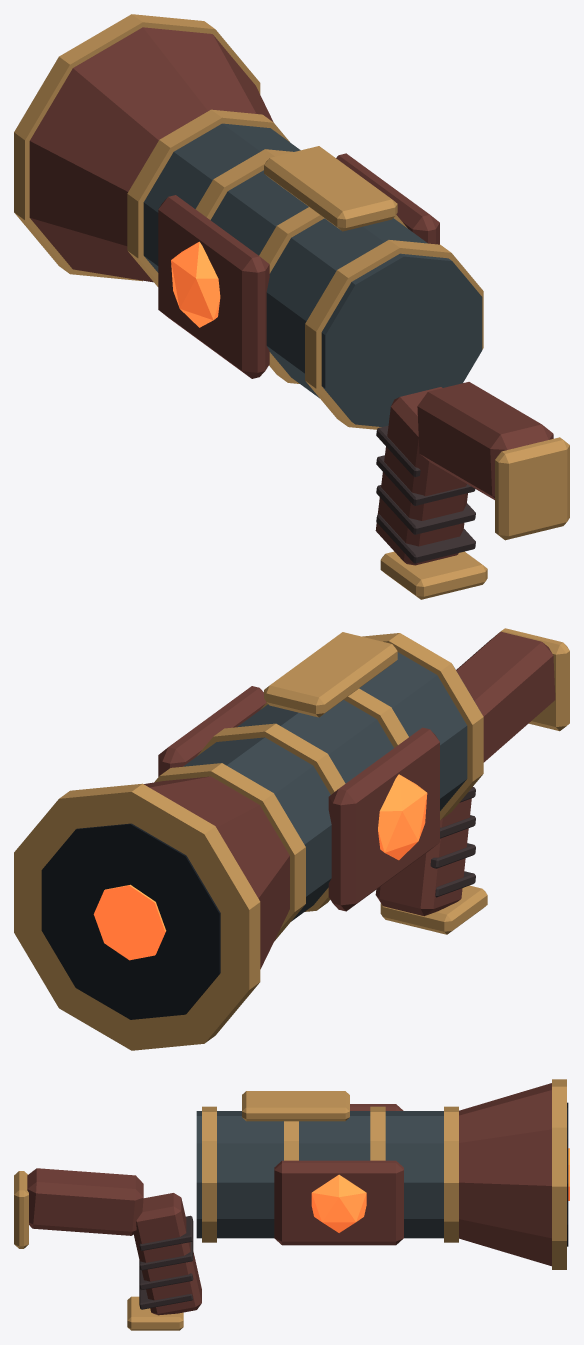
File: 06_ashbell.glb
3 renders of one model, top to bottom at view 1: azimuth 30°, elevation 25°; view 2: azimuth 150°, elevation 25°; view 3: azimuth 270°, elevation 25°, orthographic. The views are drawn at different scales.
Parts seen in each view (by area): view 1: Bell | main crucible, Bell | flared mouth, Bell | iron wing, Stock | wood.003, Grip | wrapped heartwood.005, Stock | brass butt.003, Bell | lip, Bell | carry arch, Bell | gilded hoops, Bell | gilded hoops.003, Grip | pommel.005, Bell | side furnace (+6 smaller); view 2: Bell | lip, Bell | black aperture, Bell | main crucible, Bell | iron wing, Bell | flared mouth, Stock | wood.003, Bell | carry arch, Grip | wrapped heartwood.005, Bell | gilded hoops.003, Bell | ember at throat, Bell | gilded hoops, Bell | side furnace (+5 smaller); view 3: Bell | main crucible, Bell | flared mouth, Bell | iron wing.001, Stock | wood.003, Grip | wrapped heartwood.005, Bell | carry arch, Bell | lip, Bell | side furnace.001, Bell | gilded hoops, Bell | gilded hoops.003, Grip | pommel.005, Stock | brass butt.003 (+6 smaller).
Boxes of the visible parts, x1,y1,x2,y2 form: Bell | main crucible: (143,123,482,426); Bell | flared mouth: (29,27,273,282); Bell | iron wing: (158,195,269,378); Stock | wood.003: (417,382,553,499); Grip | wrapped heartwood.005: (375,387,467,565); Stock | brass butt.003: (495,437,569,540); Bell | lip: (14,14,260,281); Bell | carry arch: (264,146,397,231); Bell | gilded hoops: (305,240,483,429); Bell | gilded hoops.003: (127,109,289,286); Grip | pommel.005: (380,551,487,599); Bell | side furnace: (171,241,220,327); Bell | lip: (14,783,260,1050); Bell | black aperture: (41,823,220,1019); Bell | main crucible: (183,652,481,921); Bell | iron wing: (328,727,439,911); Bell | flared mouth: (144,776,289,969); Stock | wood.003: (456,631,555,762); Bell | carry arch: (264,632,397,717); Grip | wrapped heartwood.005: (375,787,472,916); Bell | gilded hoops.003: (154,763,305,941); Bell | ember at throat: (93,884,166,960); Bell | gilded hoops: (362,633,483,820); Bell | side furnace: (378,774,427,860); Bell | main crucible: (196,1111,443,1238); Bell | flared mouth: (459,1083,551,1266); Bell | iron wing.001: (274,1160,403,1245); Stock | wood.003: (27,1168,143,1235); Grip | wrapped heartwood.005: (133,1193,201,1315); Bell | carry arch: (242,1091,349,1121); Bell | lip: (552,1079,566,1269); Bell | side furnace.001: (311,1174,366,1232); Bell | gilded hoops: (202,1106,216,1242); Bell | gilded hoops.003: (444,1106,458,1242); Grip | pommel.005: (127,1296,183,1330); Stock | brass butt.003: (14,1171,28,1248).
Size of the model in its own units: 0.4343 by 0.5975 by 1.29.
